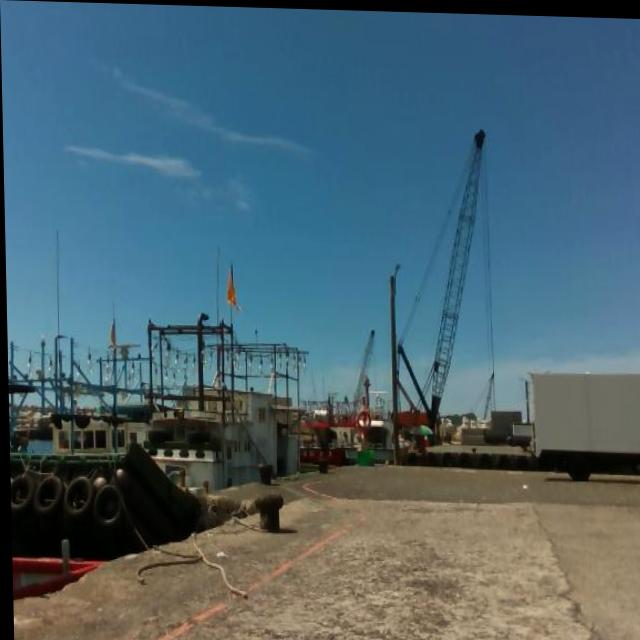pollute: (213, 547, 229, 560), (520, 478, 530, 487)
